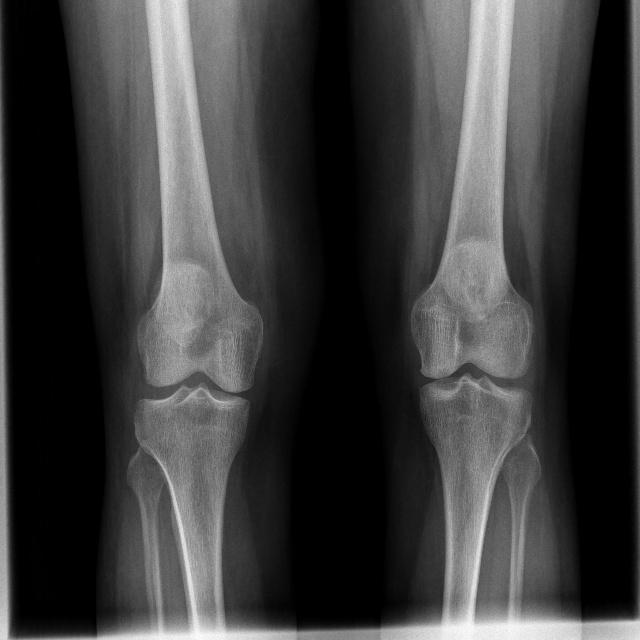Knee: (131, 320, 262, 445), (404, 317, 535, 437)
